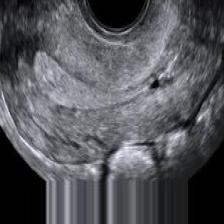no-pcos: (2, 6, 223, 174)
